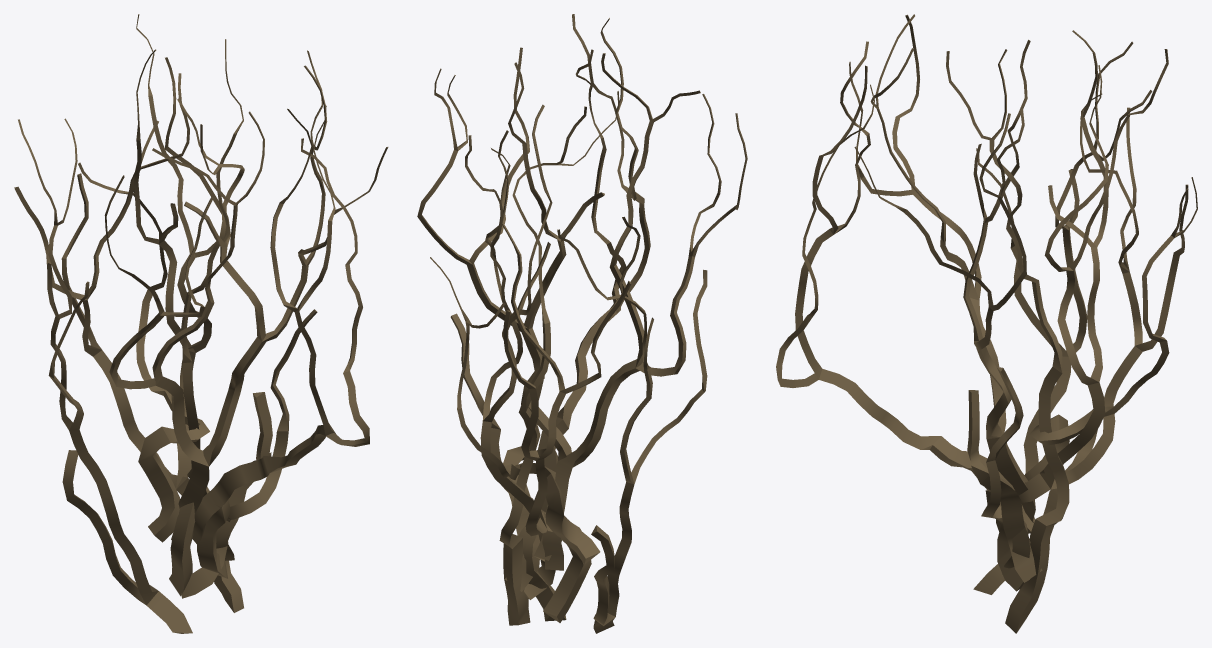
The model's file is plant_swamp_root_C_light.fbx.
The picture shows the model from 3 angles, left to right: view 1: azimuth 30°, elevation 25°; view 2: azimuth 150°, elevation 25°; view 3: azimuth 270°, elevation 25°; orthographic projection. The views are drawn at different scales.
Visible parts, largest first — view 1: plant_swamp_root_C_light; view 2: plant_swamp_root_C_light; view 3: plant_swamp_root_C_light.
Part boxes in pixels (left/top/right/bottom): plant_swamp_root_C_light: left=14, top=14, right=388, bottom=633; plant_swamp_root_C_light: left=417, top=14, right=747, bottom=633; plant_swamp_root_C_light: left=776, top=14, right=1197, bottom=633.
Bounding box in the file's own units: 312 × 601 × 391.
